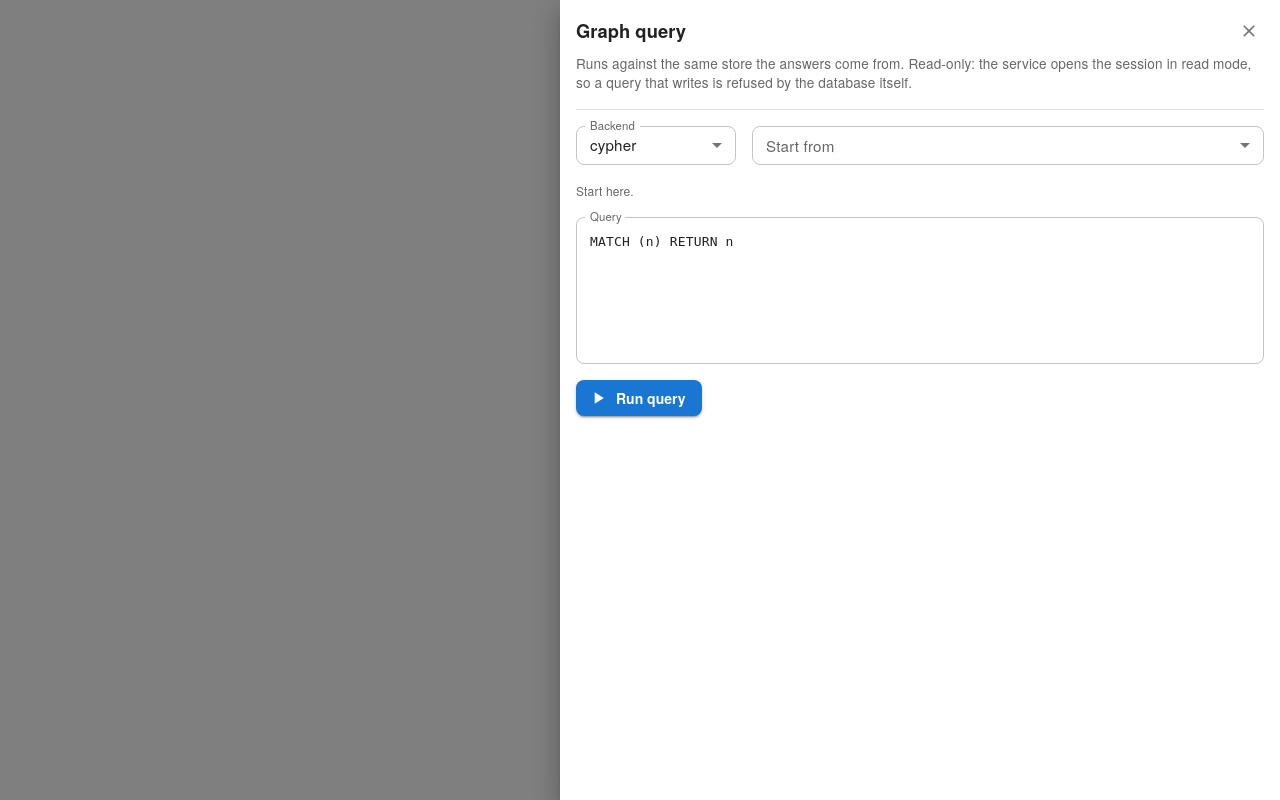
Test: GraphQueryConsole › reports how many rows and how long
This screenshot has width=1280, height=800.
Click the button "Run query".
click(639, 398)  # box [576,380,702,416]
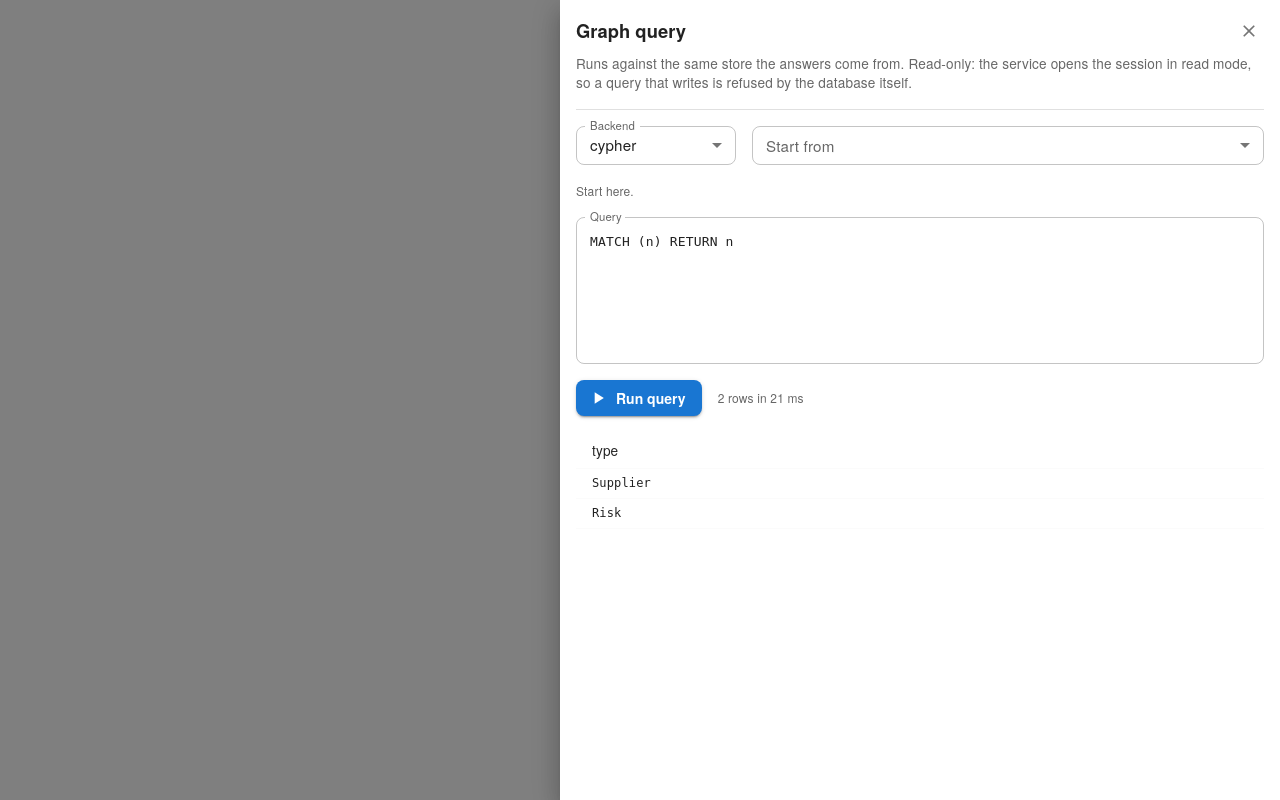
Check: the text "2 rows in 21 ms" is shown, box [718,388,804,408]
Check: the column heading "type" is shown, box [576,432,1264,469]
